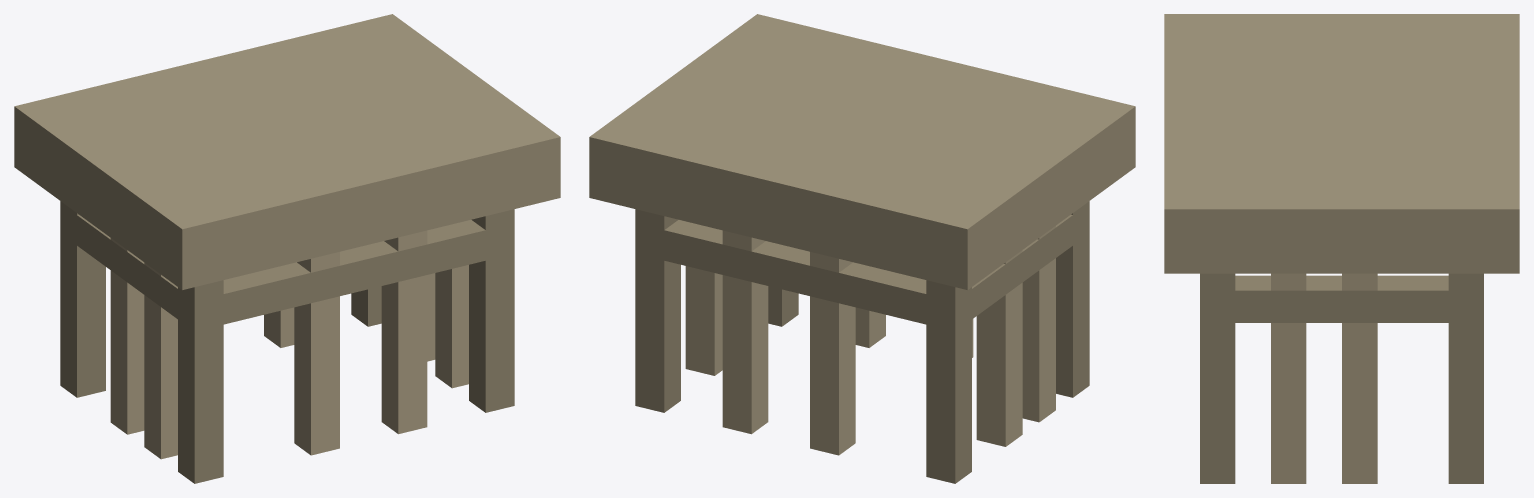
Rendered from gallinero_jaula_01.glb.
3 renders of one model, left to right at view 1: azimuth 30°, elevation 25°; view 2: azimuth 150°, elevation 25°; view 3: azimuth 270°, elevation 25°, orthographic. The views are drawn at different scales.
Visible parts, largest first — view 1: gallinero_jaula_01; view 2: gallinero_jaula_01; view 3: gallinero_jaula_01.
Part boxes in pixels (left/top/right/bottom): gallinero_jaula_01: left=14, top=14, right=560, bottom=483; gallinero_jaula_01: left=589, top=14, right=1135, bottom=483; gallinero_jaula_01: left=1164, top=14, right=1519, bottom=483.
Size of the model in its own units: 1.3 by 0.9 by 1.
